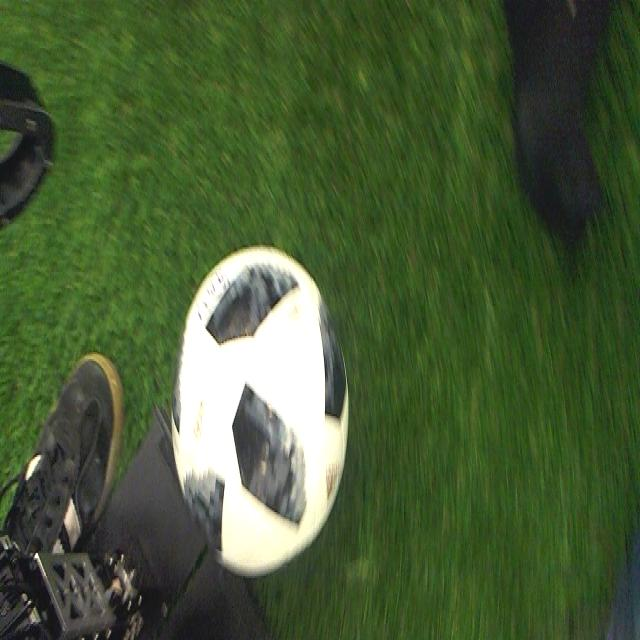ball: (169, 243, 350, 578)
